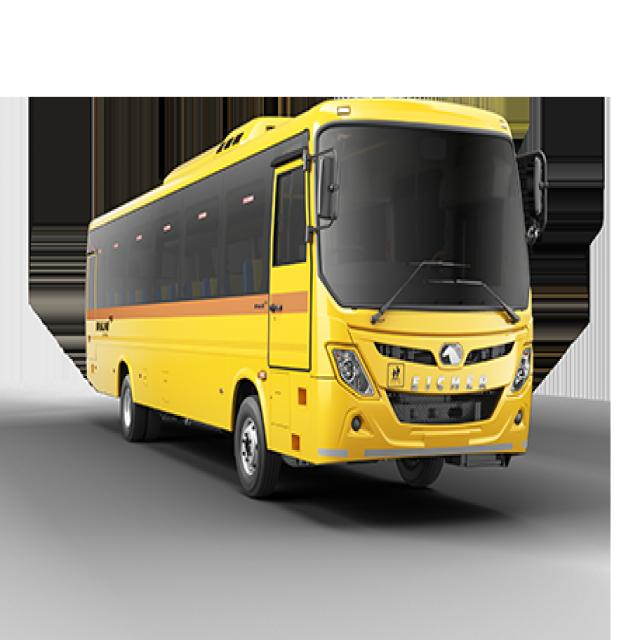bus: (85, 100, 548, 496)
